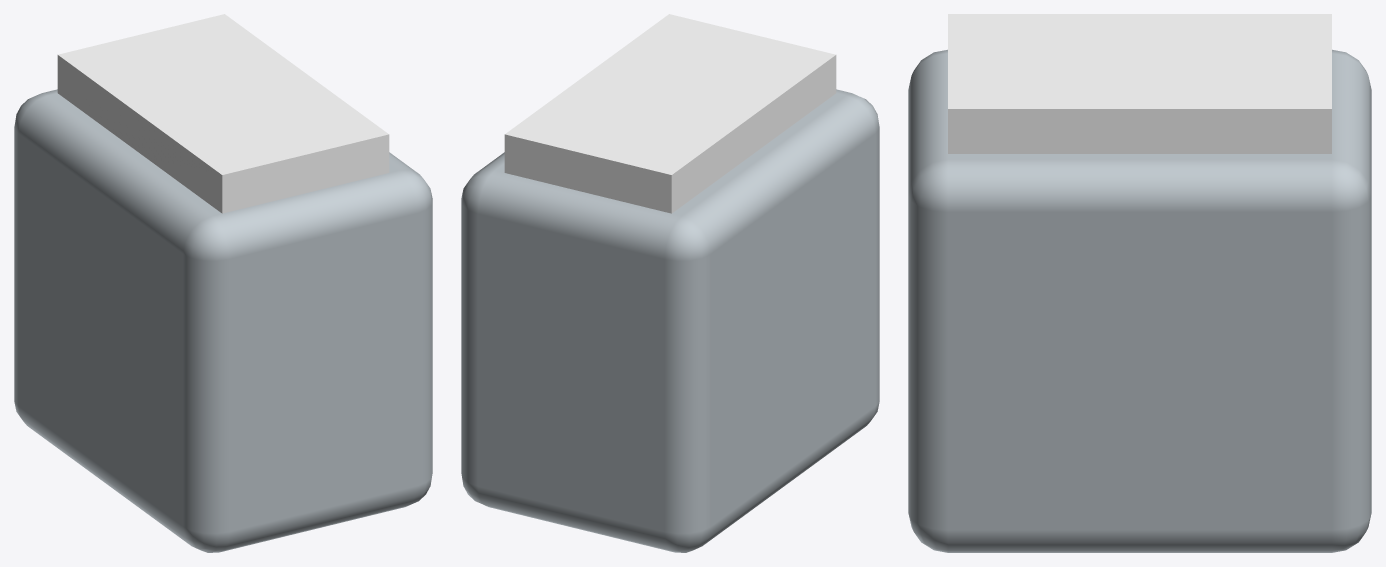
The model's file is SM_NapkinHolder.glb.
3 renders of one model, left to right at view 1: azimuth 30°, elevation 25°; view 2: azimuth 150°, elevation 25°; view 3: azimuth 270°, elevation 25°, orthographic. The views are drawn at different scales.
Parts seen in each view (by area): view 1: SM_NapkinHolder; view 2: SM_NapkinHolder; view 3: SM_NapkinHolder.
Part boxes in pixels (x1,y1,x2,y2): SM_NapkinHolder: (14,14,432,552); SM_NapkinHolder: (461,14,879,552); SM_NapkinHolder: (908,14,1371,552).
Bounding box in the file's own units: 0.1 × 0.145 × 0.14.
2 materials, 2 textured.
